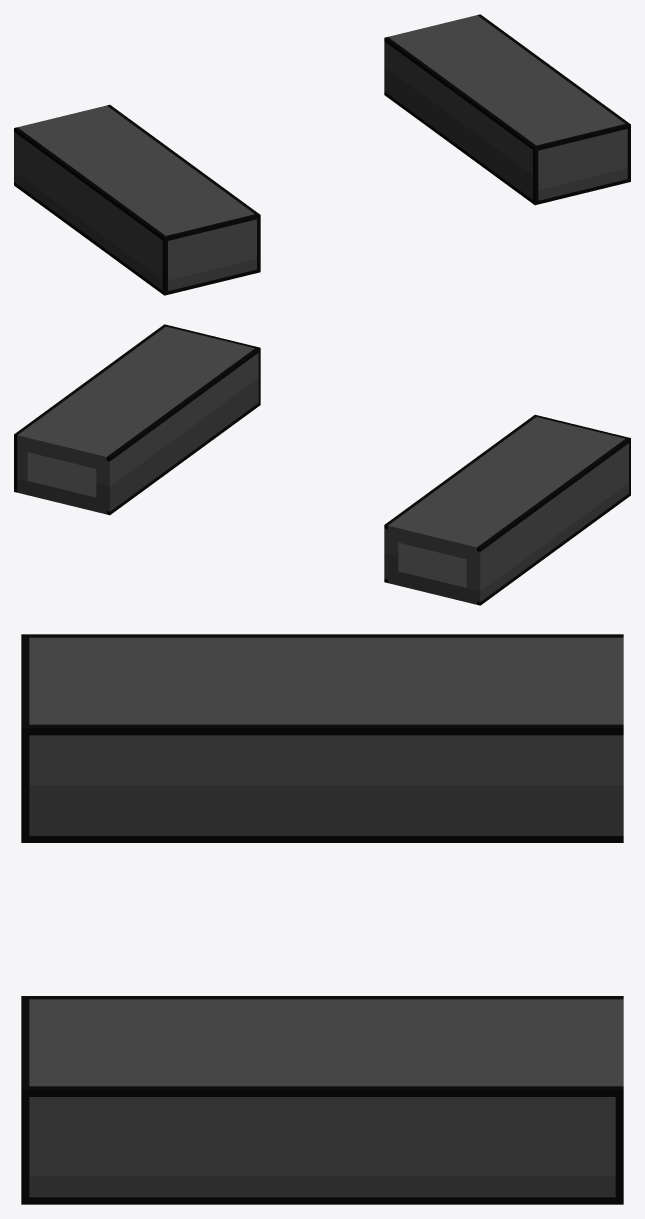
File: Sanki-0.obj
The picture shows the model from 3 angles, top to bottom: view 1: azimuth 30°, elevation 25°; view 2: azimuth 150°, elevation 25°; view 3: azimuth 270°, elevation 25°; orthographic projection. The views are drawn at different scales.
Size of the model in its own units: 13.6 by 1.6 by 7.6.
Materials: 1 (1 with a texture image).
